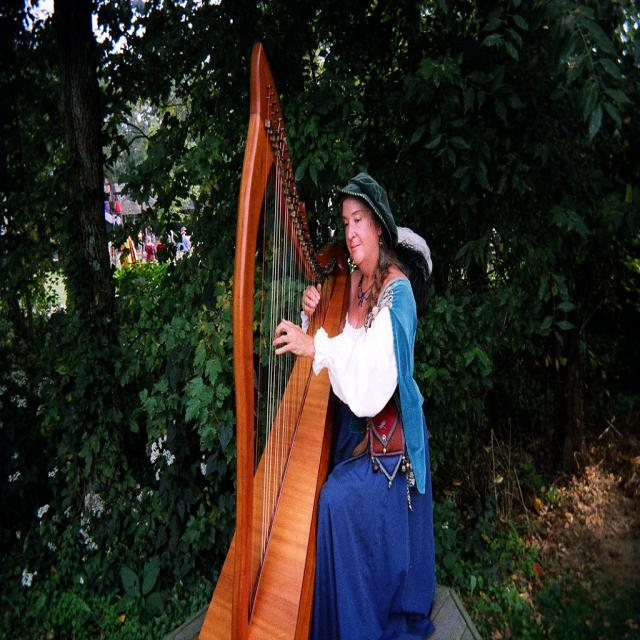harp: (195, 42, 350, 639)
